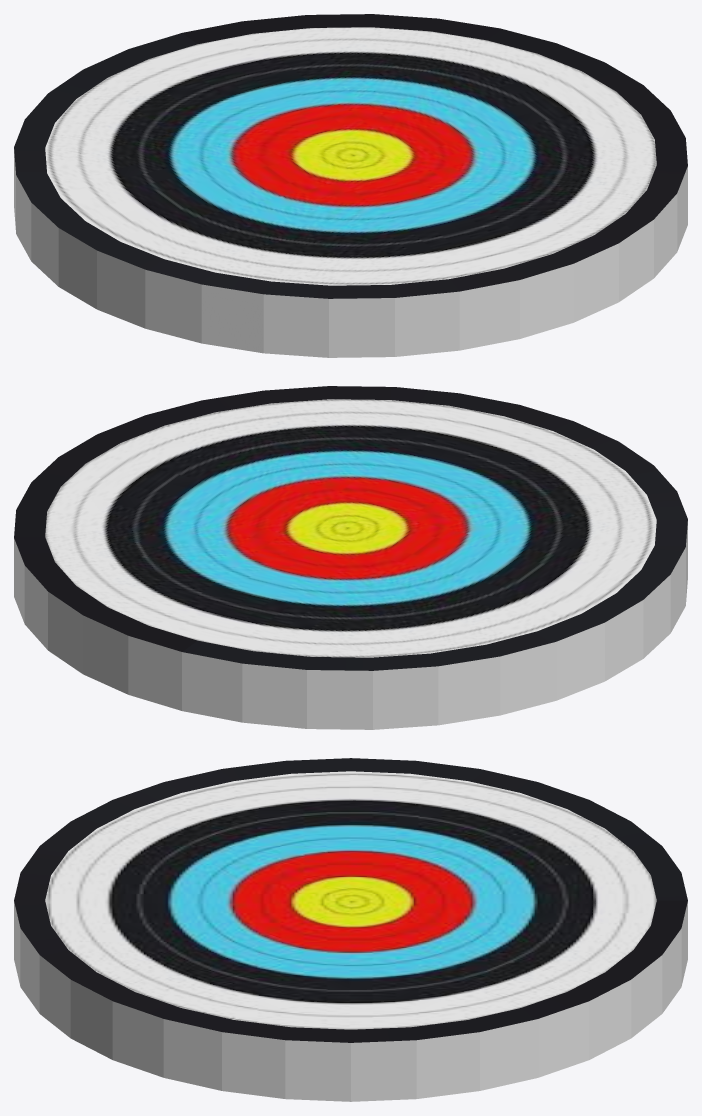
The model's file is Target.fbx.
The picture shows the model from 3 angles, top to bottom: view 1: azimuth 30°, elevation 25°; view 2: azimuth 150°, elevation 25°; view 3: azimuth 270°, elevation 25°; orthographic projection.
Parts seen in each view (by area): view 1: Cylinder; view 2: Cylinder; view 3: Cylinder.
Part boxes in pixels (bbox=[...]): Cylinder: bbox=[14, 14, 687, 357]; Cylinder: bbox=[14, 386, 687, 729]; Cylinder: bbox=[14, 758, 687, 1101].
Size of the model in its own units: 200 by 19.29 by 200.
